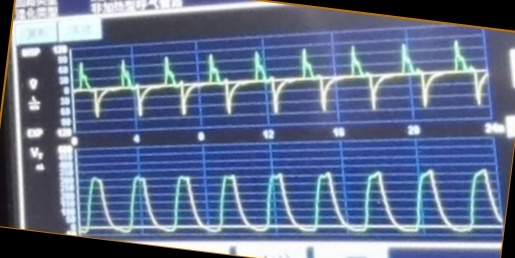Accumulation Flow: (74, 42, 486, 118)
Volume: (81, 164, 500, 236)
